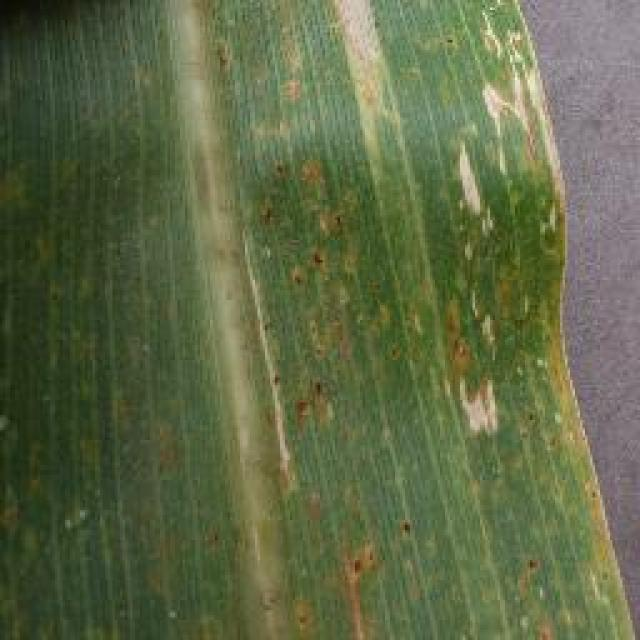Corn___Northern_Leaf_Blight: (2, 0, 630, 640)
